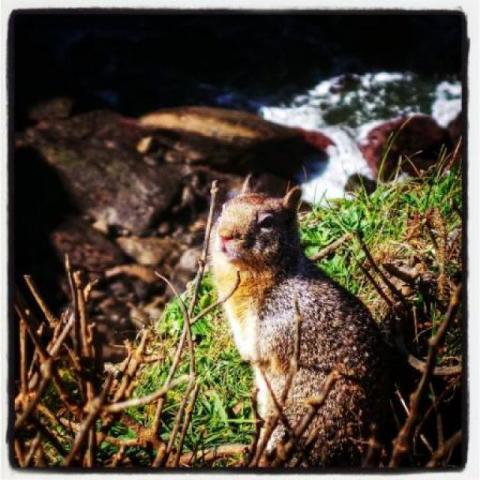small_animal: (6, 8, 470, 474), (206, 175, 394, 468)
